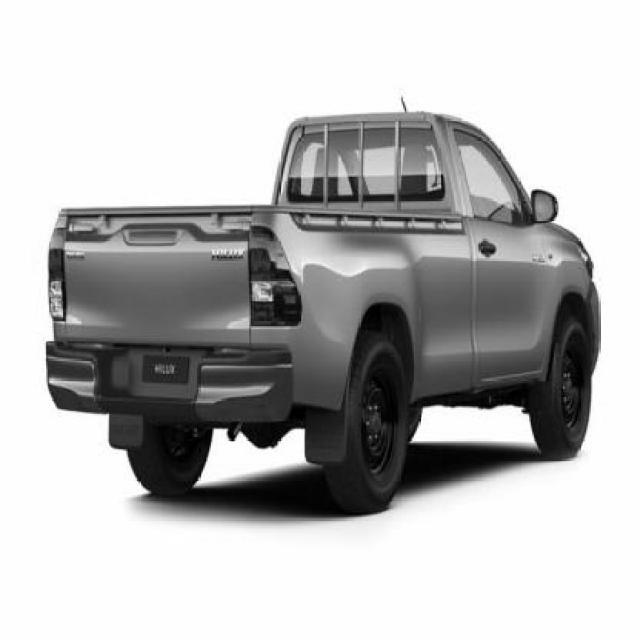Pickup: (44, 109, 603, 518)
